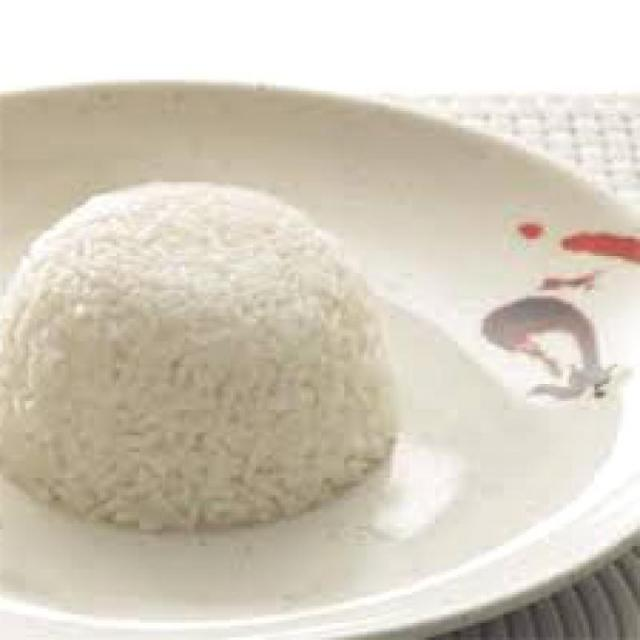rice: (2, 183, 401, 538)
